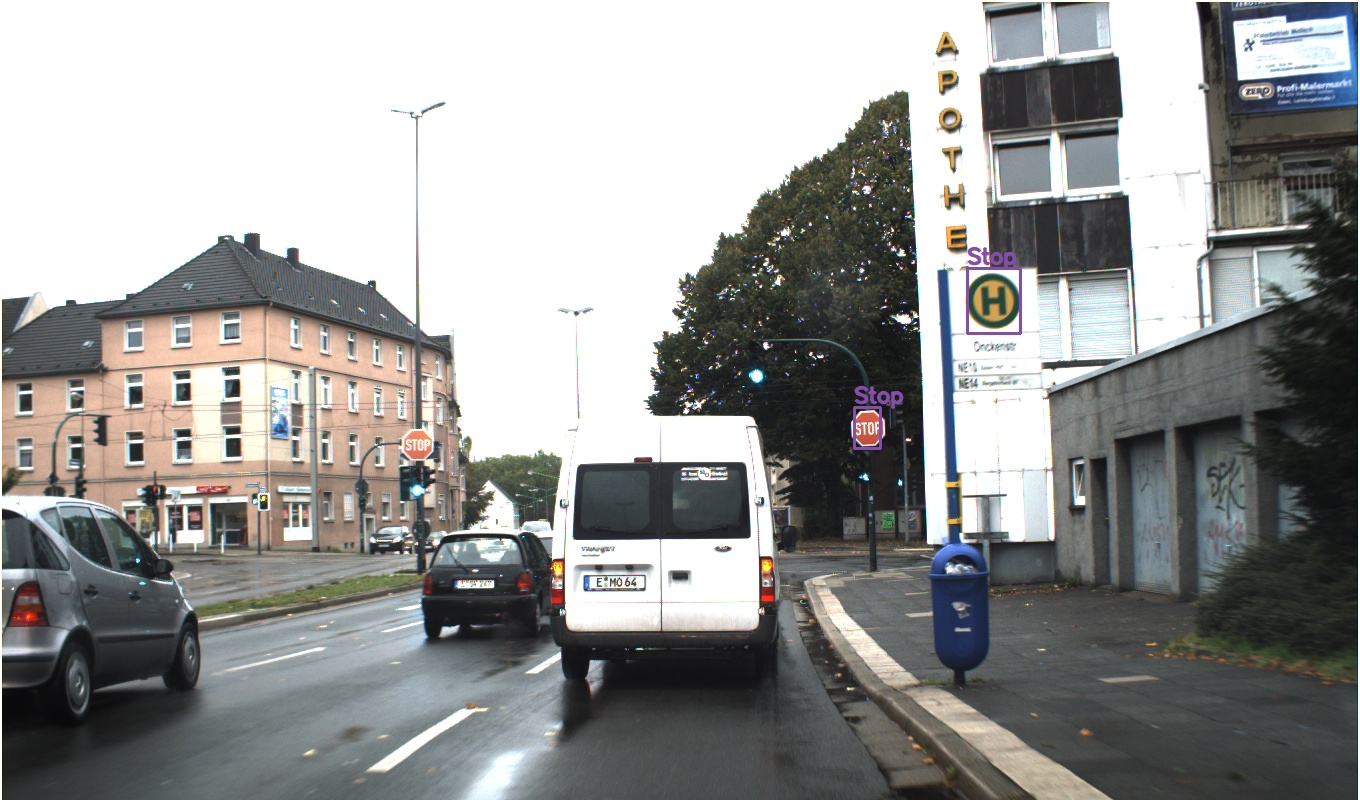No passing for vehicles over 3.5 metric tons: (956, 464, 982, 490), (410, 464, 436, 490)
Speed limit (120km/h): (956, 440, 981, 464), (412, 440, 436, 464)
